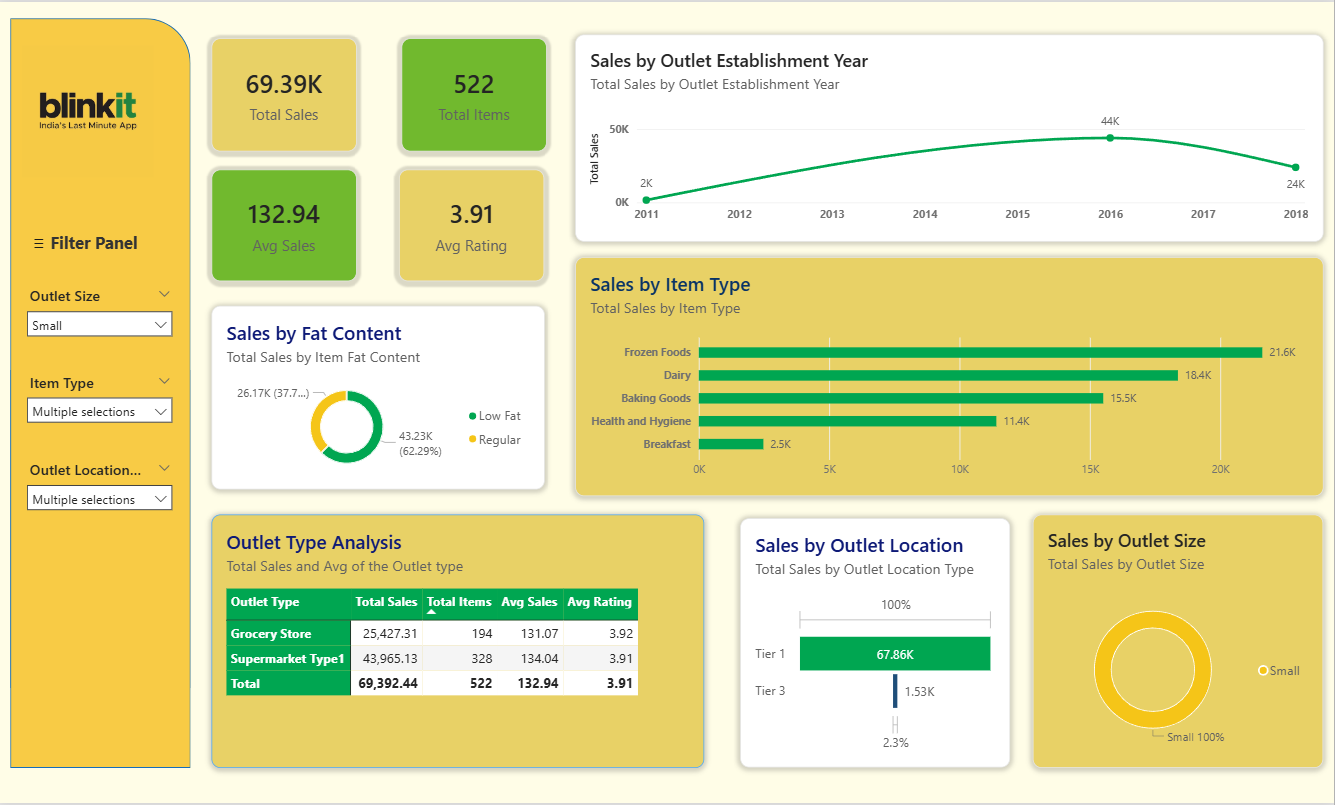

Layout of this report page (visuals, bound fields, positions):
{"tool":"powerbi","page":{"name":"Page 1","canvas":[1500,900],"ordinal":0},"visuals":[{"type":"card","fields":{"Values":["Key Measures.Total Sales"]},"box":[239,41.2,163.2,126.9],"z":0},{"type":"card","fields":{"Values":["Key Measures.Avg Sales"]},"box":[239,187.9,163.2,125.3],"z":1000},{"type":"card","fields":{"Values":["Key Measures.Avg Rating"]},"box":[450,187.9,163.2,125.3],"z":2000},{"type":"card","fields":{"Values":["Key Measures.Total Items"]},"box":[451.6,41.2,163.2,126.9],"z":3000},{"type":"donutChart","title":" Sales by Fat Content","fields":{"Category":["BlinkIT-Grocery-Data.Item Fat Content"],"Y":["Key Measures.Total Sales"]},"box":[239,341.2,374.2,206],"z":4000},{"type":"clusteredBarChart","title":"Sales by Item Type","fields":{"Category":["BlinkIT-Grocery-Data.Item Type"],"Y":["Key Measures.Total Sales"]},"box":[647.8,286.8,840.7,268.7],"z":5000},{"type":"donutChart","title":"Sales by Outlet Size","fields":{"Category":["BlinkIT-Grocery-Data.Outlet Size"],"Y":["Key Measures.Total Sales"]},"box":[1162.1,575.3,326.4,285.2],"z":6000},{"type":"lineChart","title":"Sales by Outlet Establishment Year","fields":{"Category":["BlinkIT-Grocery-Data.Outlet Establishment Year"],"Y":["Key Measures.Total Sales"]},"box":[647.8,36.3,840.7,232.4],"z":7000},{"type":"pivotTable","title":"Outlet Type Analysis","fields":{"Rows":["BlinkIT-Grocery-Data.Outlet Type"],"Values":["Key Measures.Total Sales","Key Measures.Total Items","Key Measures.Avg Sales","Key Measures.Avg Rating"]},"box":[239,575.3,553.8,285.2],"z":8000},{"type":"funnel","title":" Sales by Outlet Location","fields":{"Category":["BlinkIT-Grocery-Data.Outlet Location Type"],"Y":["Key Measures.Total Sales"]},"box":[832.4,580.2,303.3,280.2],"z":12000},{"type":"shape","box":[13.2,18.1,202.7,842.3],"z":12750},{"type":"slicer","fields":{"Values":["BlinkIT-Grocery-Data.Outlet Location Type"]},"box":[26.4,514.3,173.1,65.9],"z":12812},{"type":"slicer","fields":{"Values":["BlinkIT-Grocery-Data.Outlet Size"]},"box":[26.4,318.1,173.1,64.3],"z":12875},{"type":"slicer","fields":{"Values":["BlinkIT-Grocery-Data.Item Type"]},"box":[26.4,415.4,173.1,67.6],"z":13000},{"type":"textbox","box":[25.9,251.2,160.1,35.7],"z":15500},{"type":"image","box":[25.6,42,148.6,161.9],"z":16501}]}

Visuals, with their boxes in screenshot pixels (x1, y1, x2, y2), scaled from the page's 1500x900 canvas onto the 1336x805 screenshot:
card - Key Measures.Total Sales: 213 37 358 150
card - Key Measures.Avg Sales: 213 168 358 280
card - Key Measures.Avg Rating: 401 168 546 280
card - Key Measures.Total Items: 402 37 548 150
" Sales by Fat Content" donutChart: 213 305 546 489
"Sales by Item Type" clusteredBarChart: 577 257 1326 497
"Sales by Outlet Size" donutChart: 1035 515 1326 770
"Sales by Outlet Establishment Year" lineChart: 577 32 1326 240
"Outlet Type Analysis" pivotTable: 213 515 706 770
" Sales by Outlet Location" funnel: 741 519 1012 770
shape: 12 16 192 770
slicer - BlinkIT-Grocery-Data.Outlet Location Type: 24 460 178 519
slicer - BlinkIT-Grocery-Data.Outlet Size: 24 285 178 342
slicer - BlinkIT-Grocery-Data.Item Type: 24 372 178 432
textbox: 23 225 166 257
image: 23 38 155 182
